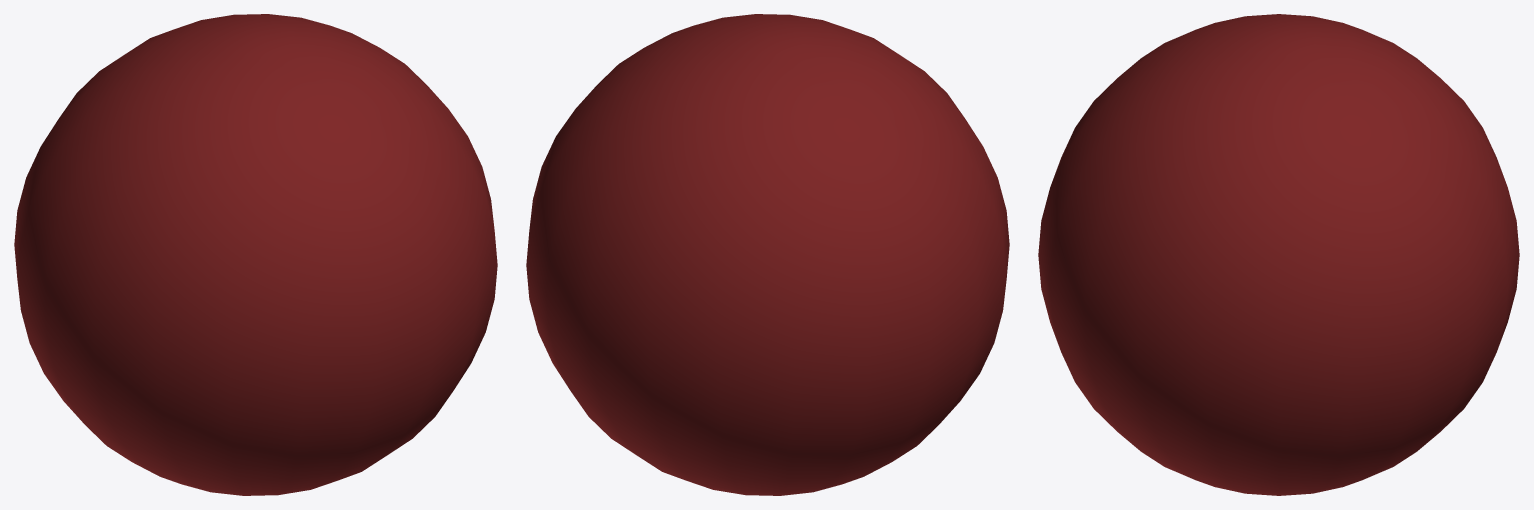
File: Background.fbx
3 views of the same model, side by side, from view 1: azimuth 30°, elevation 25°; view 2: azimuth 150°, elevation 25°; view 3: azimuth 270°, elevation 25° (orthographic).
Parts seen in each view (by area): view 1: pSphere1; view 2: pSphere1; view 3: pSphere1.
Boxes of the visible parts, <box> form: pSphere1: <box>14,14,497,495</box>; pSphere1: <box>526,14,1009,495</box>; pSphere1: <box>1038,14,1519,495</box>.
Bounding box in the file's own units: 6.7 × 6.63 × 6.63.
